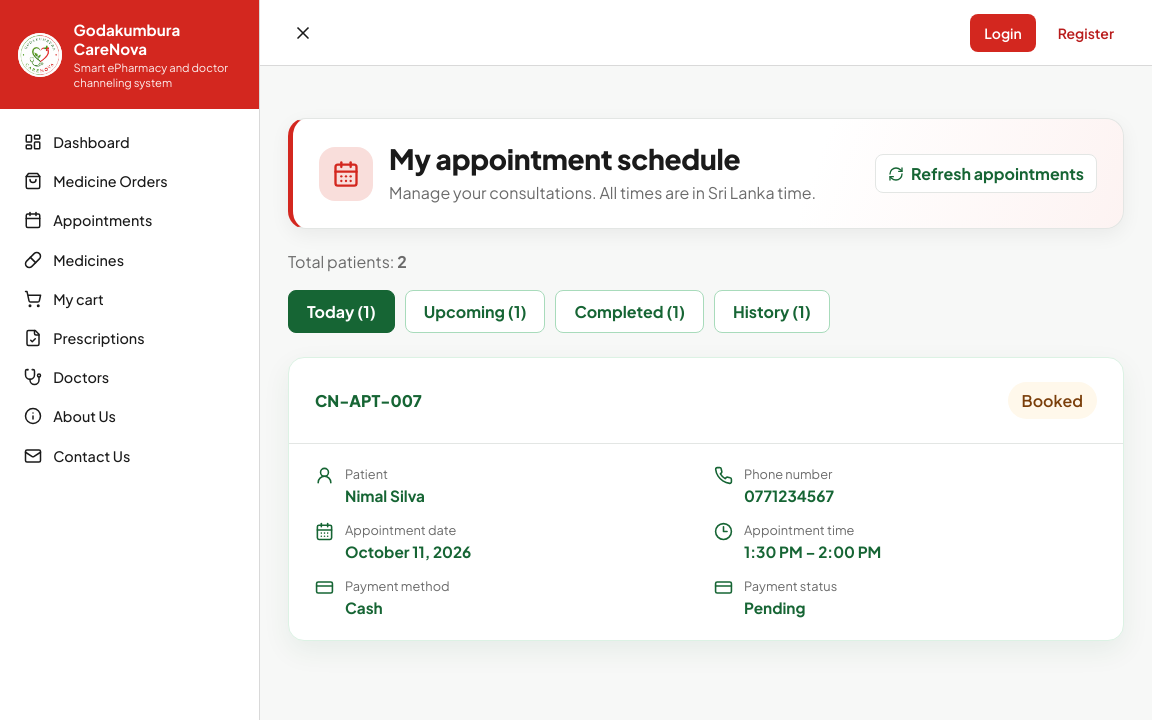
Test case: shows assigned patient details and switches between schedule views
Check: the link "CN-APT-007" is shown, box [315, 390, 422, 411]
Check: the text "Nimal Silva" is shown, box [345, 486, 425, 505]
What coordinates should you click on to do the following:
click the tab "Upcoming (1)"
I would click on:
 (475, 312)
Its box is [405, 290, 546, 333].
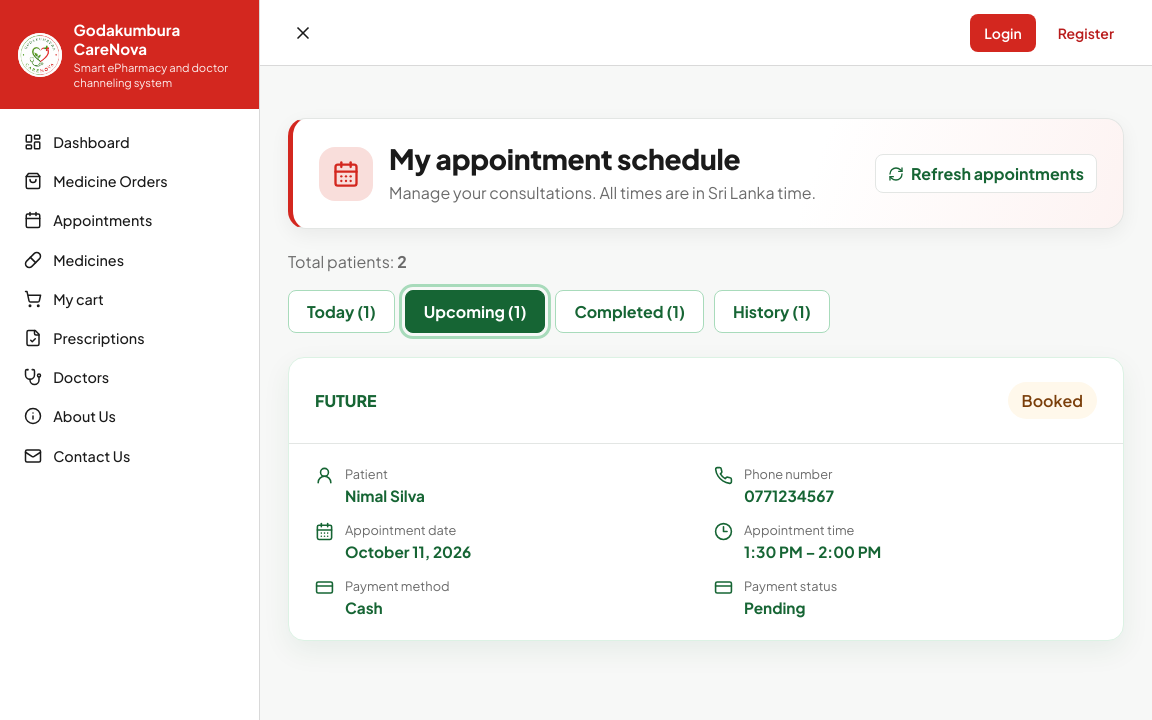
Check: the link "FUTURE" is shown, box [315, 390, 376, 411]
Check: the link "CN-APT-007" is gone
What coordinates should you click on to do the following:
click the tab "Completed (1)"
I would click on:
 (630, 312)
Its box is [556, 290, 704, 333].
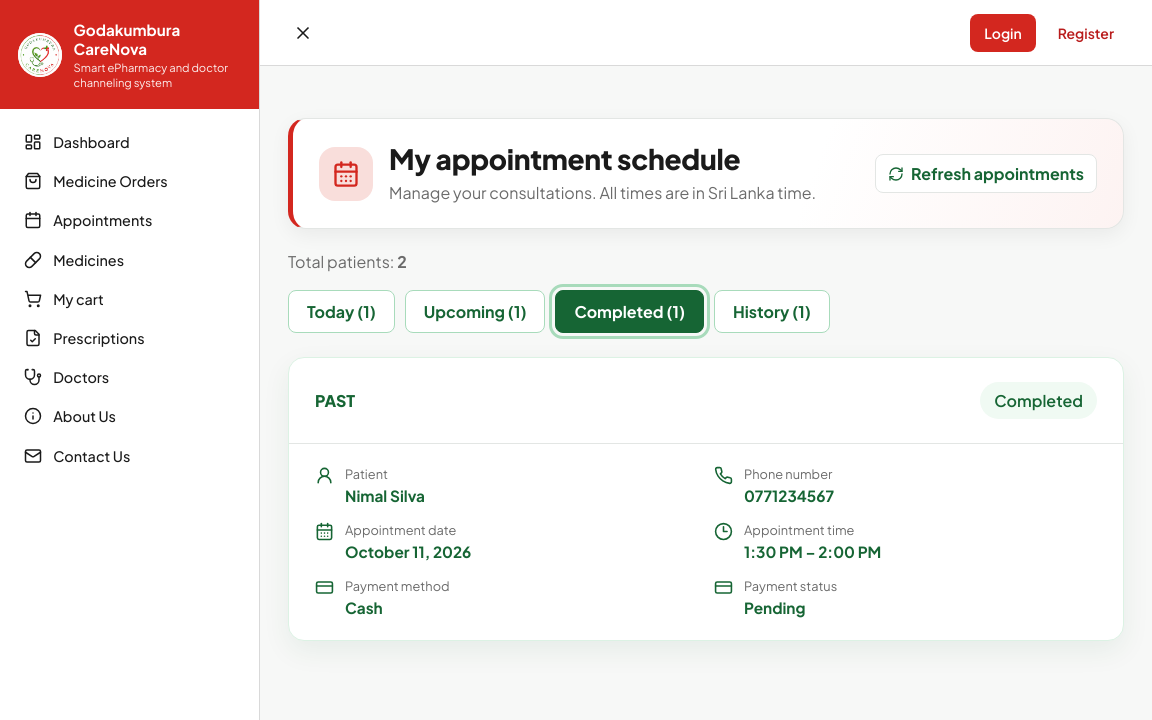
Check: the link "PAST" is shown, box [315, 390, 355, 411]
What coordinates should you click on to do the following:
click the tab "History (1)"
I would click on:
 (772, 312)
Its box is [714, 290, 830, 333].
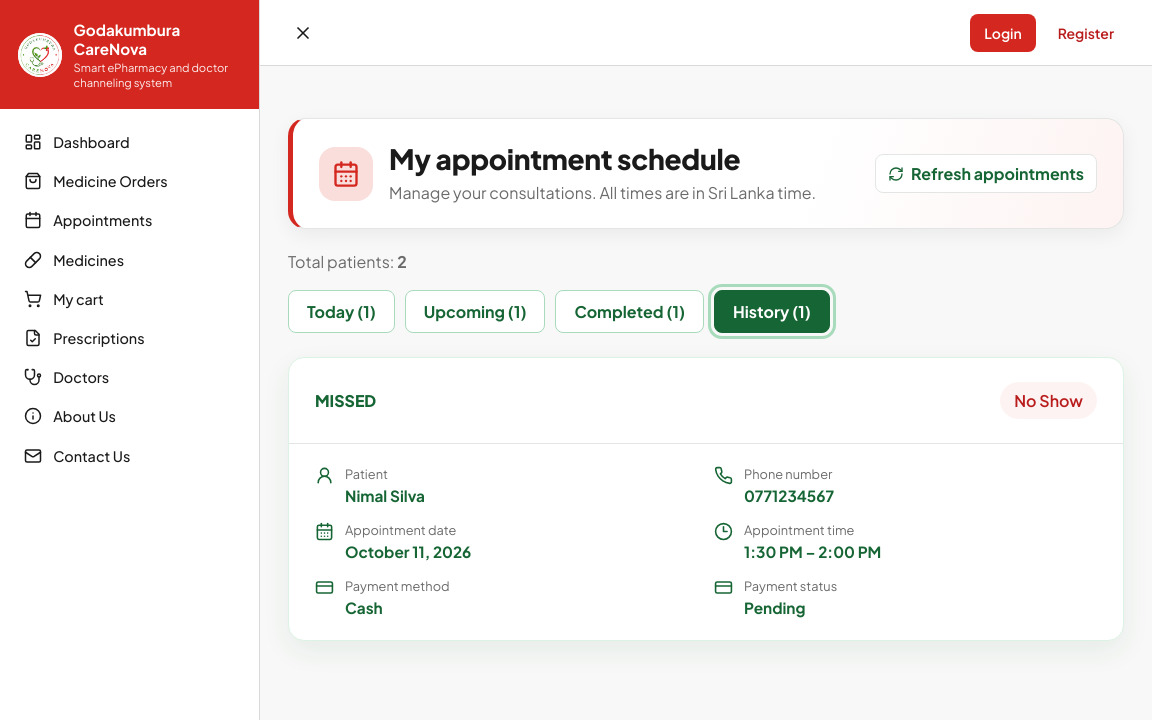
Check: the text "No Show" is shown, box [1000, 382, 1097, 419]
